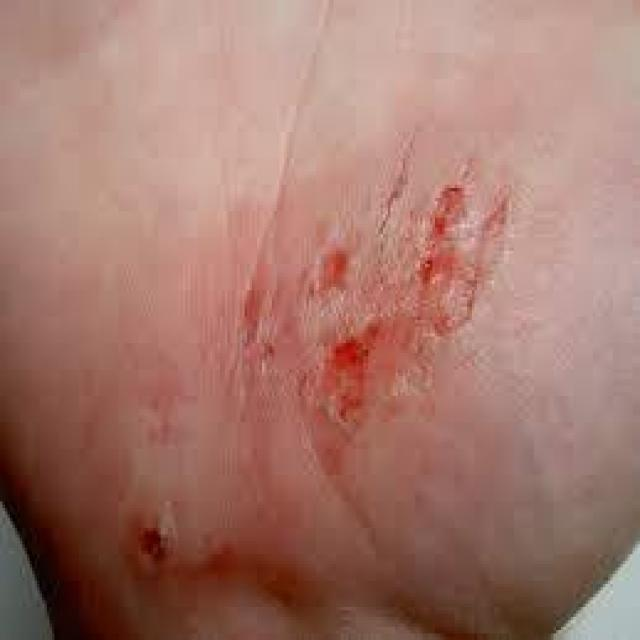Cut: (239, 142, 520, 409), (112, 497, 189, 582)
